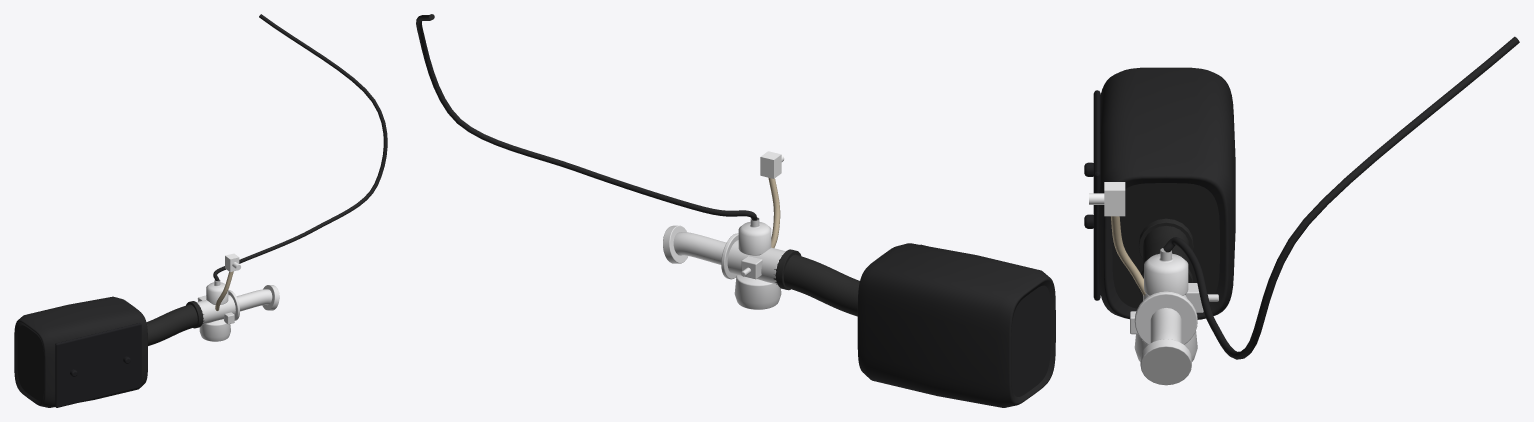
The model's file is bike_boda_boda__carb.glb.
3 renders of one model, left to right at view 1: azimuth 30°, elevation 25°; view 2: azimuth 150°, elevation 25°; view 3: azimuth 270°, elevation 25°, orthographic. The views are drawn at different scales.
Visible parts, largest first — view 1: powertrain__intake__air_filter_box, powertrain__intake__throttle_cable, powertrain__intake__carburettor, powertrain__intake__air_hose, powertrain__intake__manifold, powertrain__fuel_system__tap_and_line; view 2: powertrain__intake__air_filter_box, powertrain__intake__carburettor, powertrain__intake__air_hose, powertrain__intake__throttle_cable, powertrain__intake__manifold, powertrain__fuel_system__tap_and_line; view 3: powertrain__intake__air_filter_box, powertrain__intake__throttle_cable, powertrain__intake__carburettor, powertrain__intake__manifold, powertrain__fuel_system__tap_and_line, powertrain__intake__air_hose.
Boxes of the visible parts, x1,y1,x2,y2 form: powertrain__intake__air_filter_box: (14,296,147,407); powertrain__intake__throttle_cable: (213,14,387,280); powertrain__intake__carburettor: (196,279,239,341); powertrain__intake__air_hose: (146,301,204,345); powertrain__intake__manifold: (236,285,279,311); powertrain__fuel_system__tap_and_line: (215,253,240,310); powertrain__intake__air_filter_box: (857,243,1055,407); powertrain__intake__carburettor: (721,218,785,309); powertrain__intake__air_hose: (773,249,859,316); powertrain__intake__throttle_cable: (416,14,757,220); powertrain__intake__manifold: (663,225,726,264); powertrain__fuel_system__tap_and_line: (760,151,784,247); powertrain__intake__air_filter_box: (1084,67,1235,319); powertrain__intake__throttle_cable: (1163,36,1519,359); powertrain__intake__carburettor: (1130,248,1218,361); powertrain__intake__manifold: (1140,308,1191,385); powertrain__fuel_system__tap_and_line: (1089,182,1145,295); powertrain__intake__air_hose: (1138,218,1193,298).
Size of the model in its own units: 75.87 by 47.16 by 37.22.
